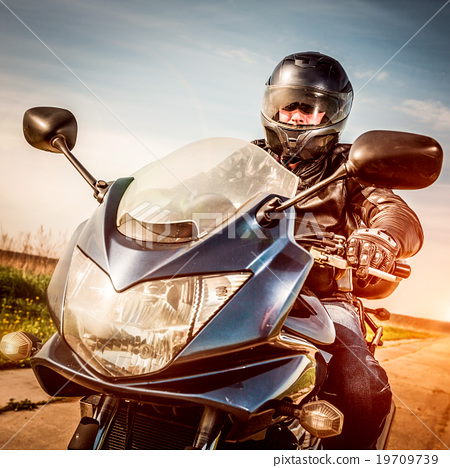helmet: (258, 46, 352, 153)
